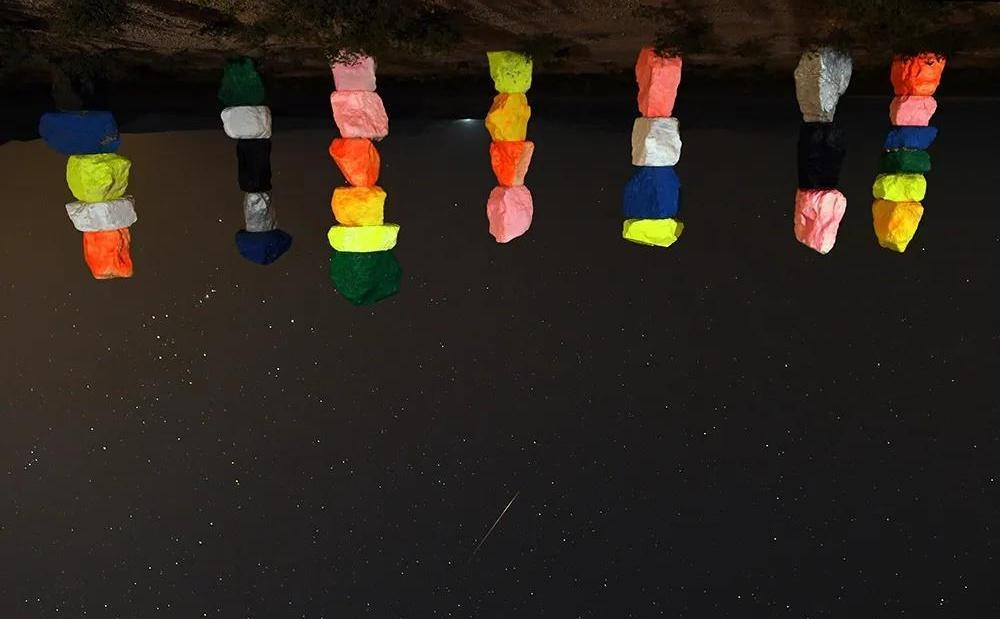meteorite: (444, 488, 538, 560)
